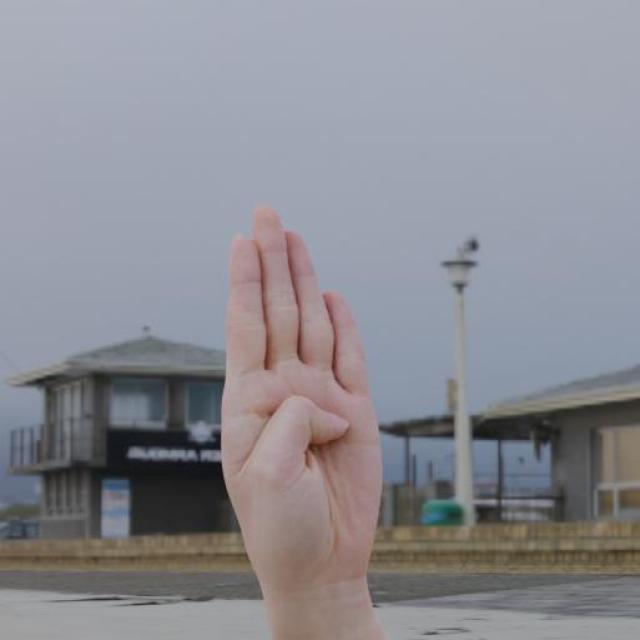B: (204, 183, 394, 609)
